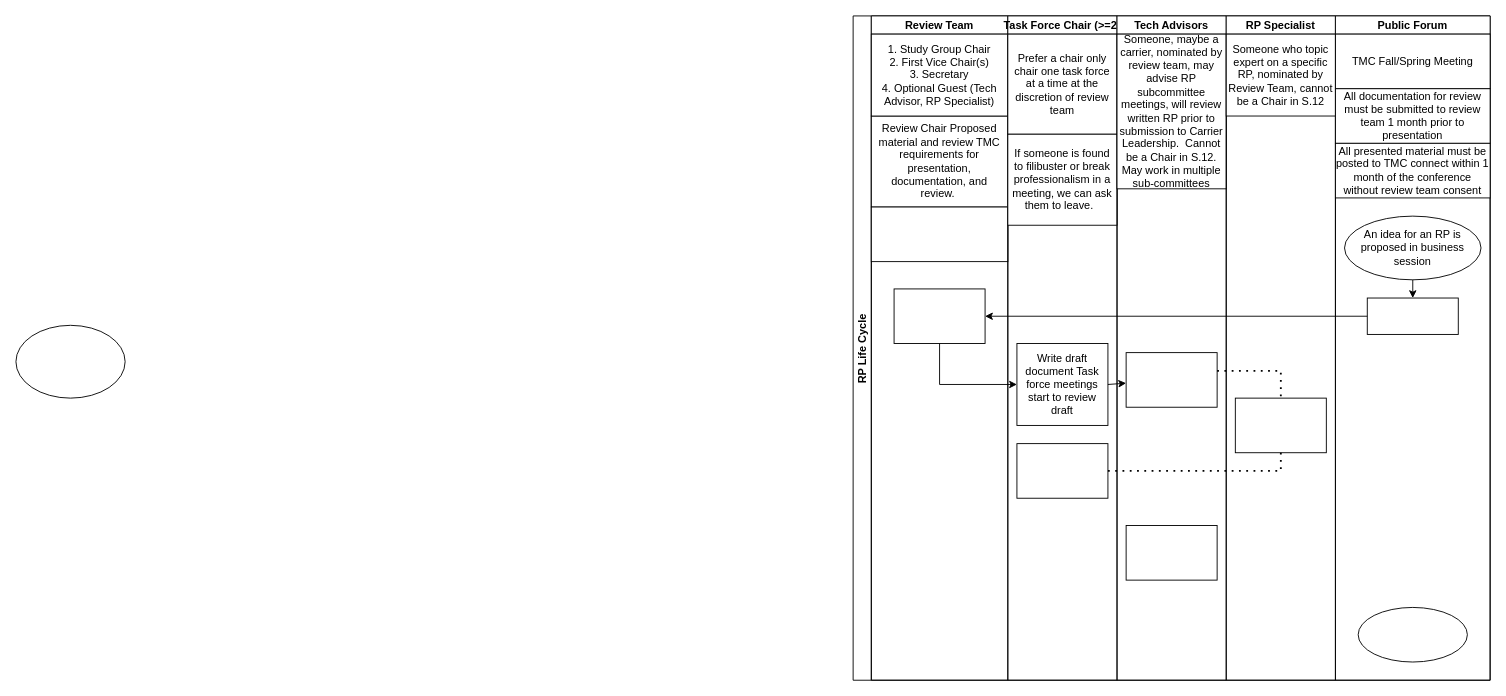
This 1506x696 diagram has some shape labels left out. The shapes that lost their labels are listed below. From the top down, each one's centre as x and y in pixels, then its label:
the point at 939,234: Review Professionalism and attendance of sub committees.
the point at 939,316: Assess task placement, viability, and applicable
the point at 1412,315: Assigned a chair
the point at 1171,379: A tech advisor is assigned by review team
the point at 1280,425: if applicable, a specialist will be assigned by review team
the point at 1062,470: Post meeting notes to TMC connects for review
the point at 1171,552: Review document for viability, approve approach technically
the point at 1412,634: An RP is balloted, 90 day apeal
